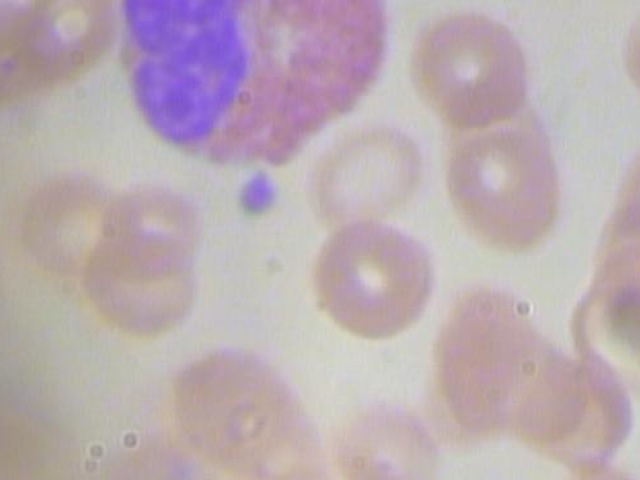Platelets: (222, 164, 283, 218)
RBC: (433, 92, 575, 258), (307, 211, 448, 347), (412, 4, 538, 131), (76, 224, 205, 345), (310, 108, 435, 230), (617, 0, 640, 119), (618, 131, 640, 238)
WBC: (72, 0, 414, 174)
